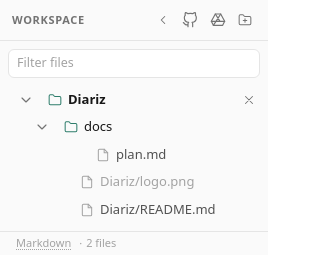
Test case: choosing the folder chat maps › opens the row's menu from the band, and selects or toggles nothing
Right-click the button named "Collapse docs" at (42, 127), box [20,113,64,141]
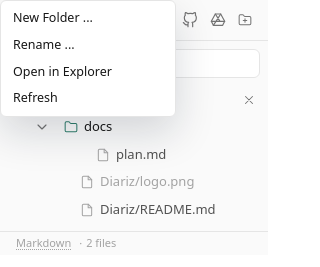
Result: the menu is shown at [0,0,176,117]
